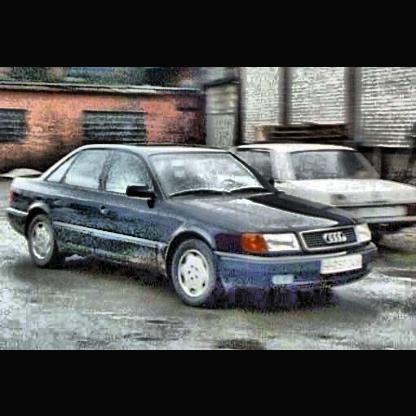Audi 100 Sedan 1994: (7, 141, 378, 308)
